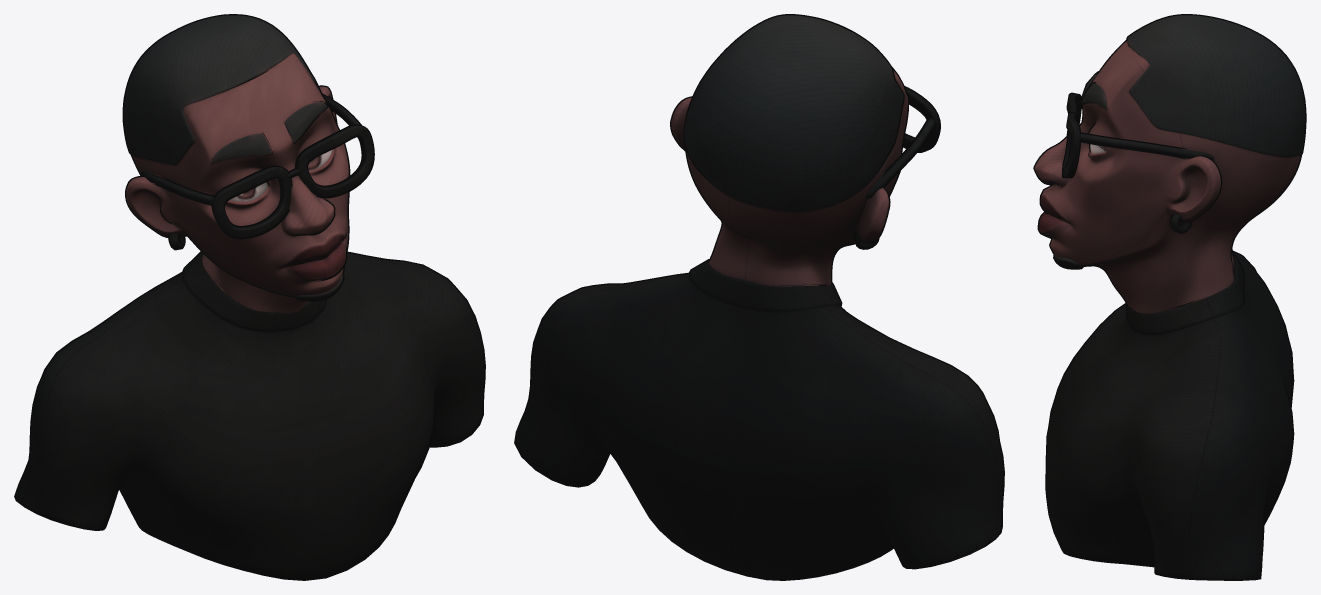
Rendered from SM_PortraitWeb_Outline.glb.
The picture shows the model from 3 angles, left to right: view 1: azimuth 30°, elevation 25°; view 2: azimuth 150°, elevation 25°; view 3: azimuth 270°, elevation 25°; orthographic projection. The views are drawn at different scales.
Parts seen in each view (by area): view 1: outline; view 2: outline; view 3: outline.
Part boxes in pixels (x1,y1,x2,y2): outline: [14, 14, 485, 580]; outline: [514, 14, 1004, 580]; outline: [1033, 14, 1306, 580].
Size of the model in its own units: 0.5747 by 0.6305 by 0.3034.
2 materials, 1 textured.
